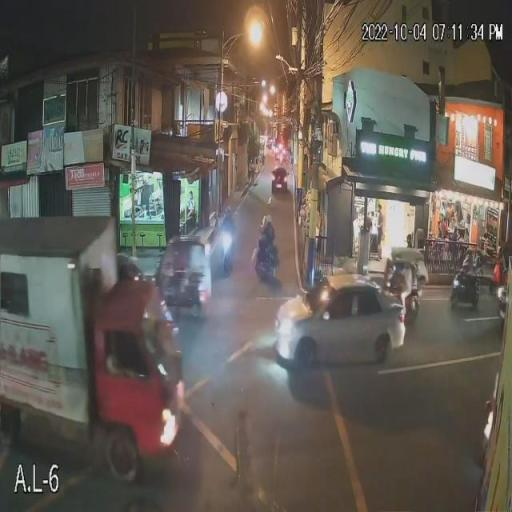helmet: (218, 204, 239, 223), (255, 209, 275, 226)
motorcycle: (250, 240, 294, 288), (442, 271, 488, 312), (218, 232, 239, 278)
rider: (452, 256, 487, 291), (258, 222, 280, 253), (221, 216, 237, 250)
